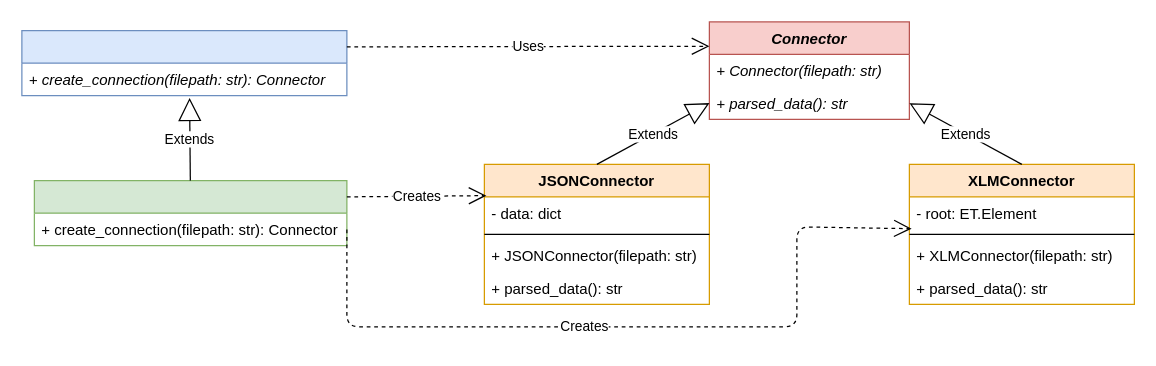
The diagram is 1156 pixels wide and 366 high, and some of its shapes have lost their labels. The box of each missing label's shape, as (x1, y1, x2, y2) in pixels:
ConcreteConnectionFactory: (33, 179, 347, 246)
ConnectionFactory: (21, 29, 347, 96)
